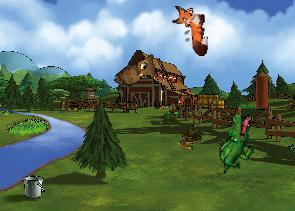crocodile: (216, 112, 256, 174)
fox: (171, 3, 209, 57)
owl: (111, 49, 165, 100)
